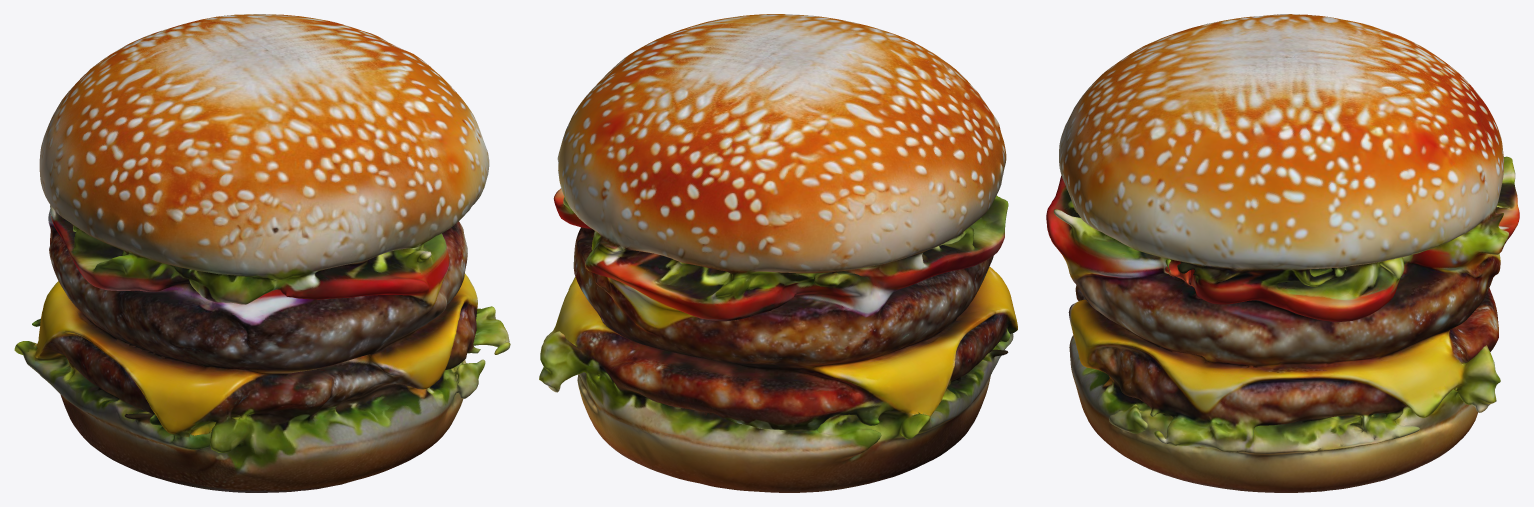
File: burger.glb
3 renders of one model, left to right at view 1: azimuth 30°, elevation 25°; view 2: azimuth 150°, elevation 25°; view 3: azimuth 270°, elevation 25°, orthographic.
Parts seen in each view (by area): view 1: tripo_node_1ddf9045-4af9-4005-8e32-a5c93e033ae9_tripo_mat_1d; view 2: tripo_node_1ddf9045-4af9-4005-8e32-a5c93e033ae9_tripo_mat_1d; view 3: tripo_node_1ddf9045-4af9-4005-8e32-a5c93e033ae9_tripo_mat_1d.
Boxes of the visible parts, x1,y1,x2,y2 form: tripo_node_1ddf9045-4af9-4005-8e32-a5c93e033ae9_tripo_mat_1d: [14, 14, 510, 492]; tripo_node_1ddf9045-4af9-4005-8e32-a5c93e033ae9_tripo_mat_1d: [539, 14, 1017, 492]; tripo_node_1ddf9045-4af9-4005-8e32-a5c93e033ae9_tripo_mat_1d: [1046, 14, 1519, 492].
Size of the model in its own units: 0.644 by 0.5764 by 0.6609.
Materials: 1 (1 with a texture image).
